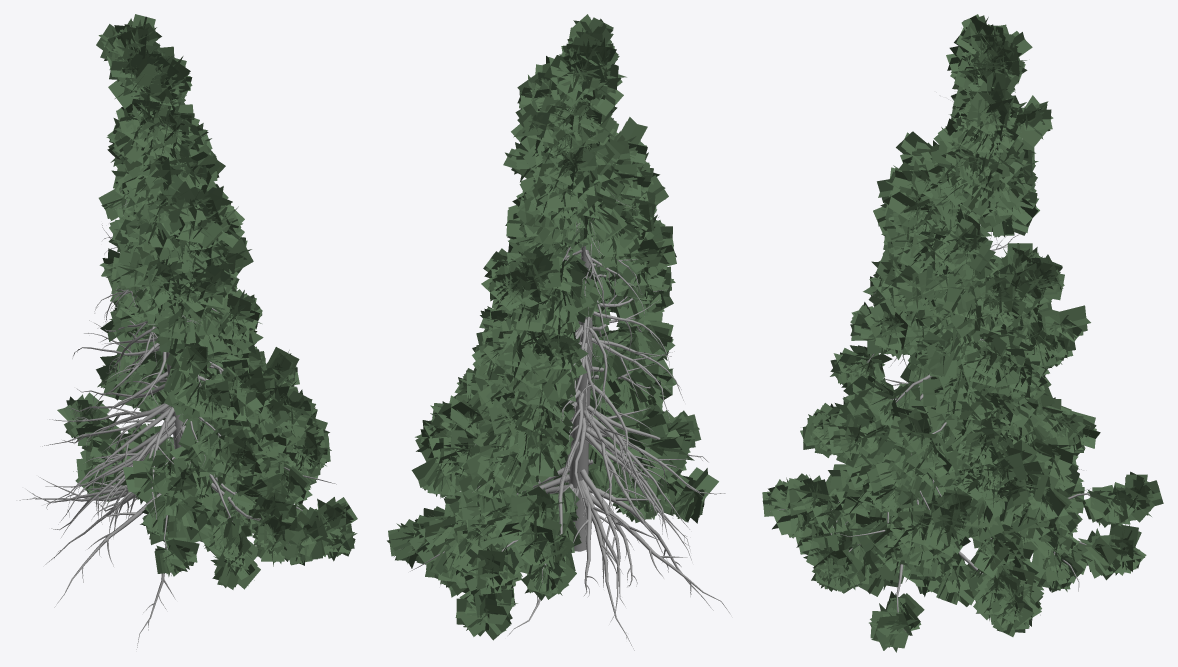
The model's file is deodar.glb.
The picture shows the model from 3 angles, left to right: view 1: azimuth 30°, elevation 25°; view 2: azimuth 150°, elevation 25°; view 3: azimuth 270°, elevation 25°; orthographic projection. The views are drawn at different scales.
Visible parts, largest first — view 1: leaves, branches; view 2: leaves, branches; view 3: leaves, branches.
Boxes of the visible parts, <box> form: leaves: <box>57,14,357,589</box>; branches: <box>16,104,336,649</box>; leaves: <box>387,14,718,640</box>; branches: <box>398,106,730,650</box>; leaves: <box>762,14,1163,652</box>; branches: <box>768,95,1090,633</box>.
Size of the model in its own units: 38.03 by 75.07 by 46.12.
